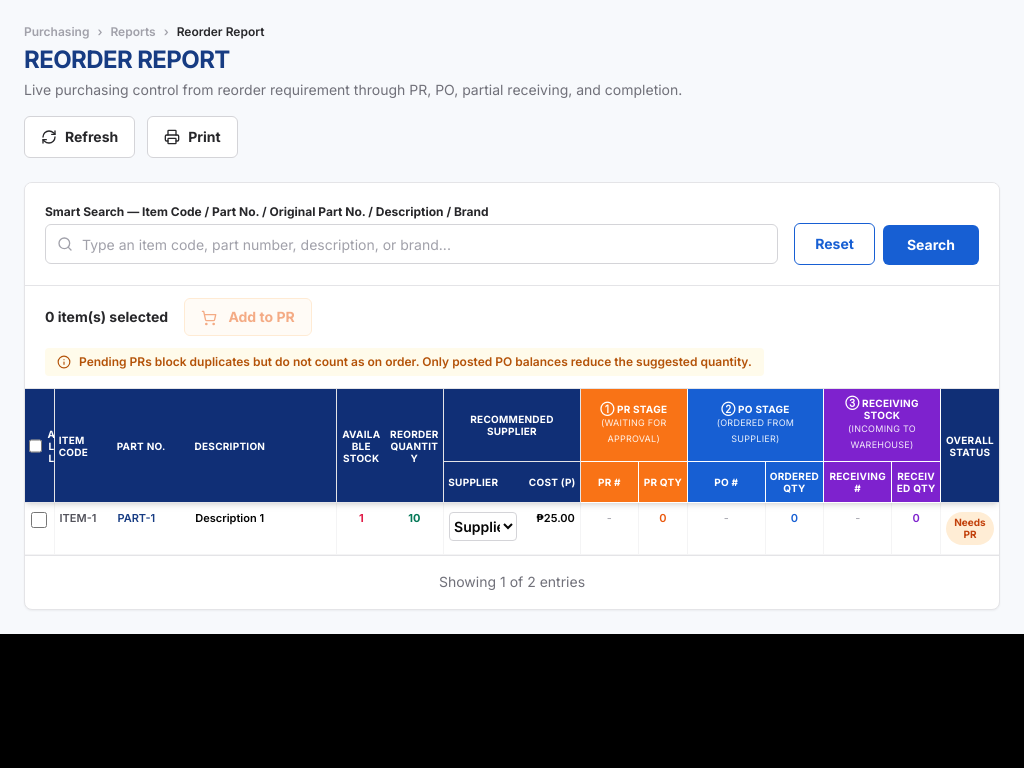
Test: ReorderReport automatic loading › opens directly and smart-searches every product field in realtime
Focus the dropdown named "Reorder report smart search" at (412, 244), box [45,224,778,264]
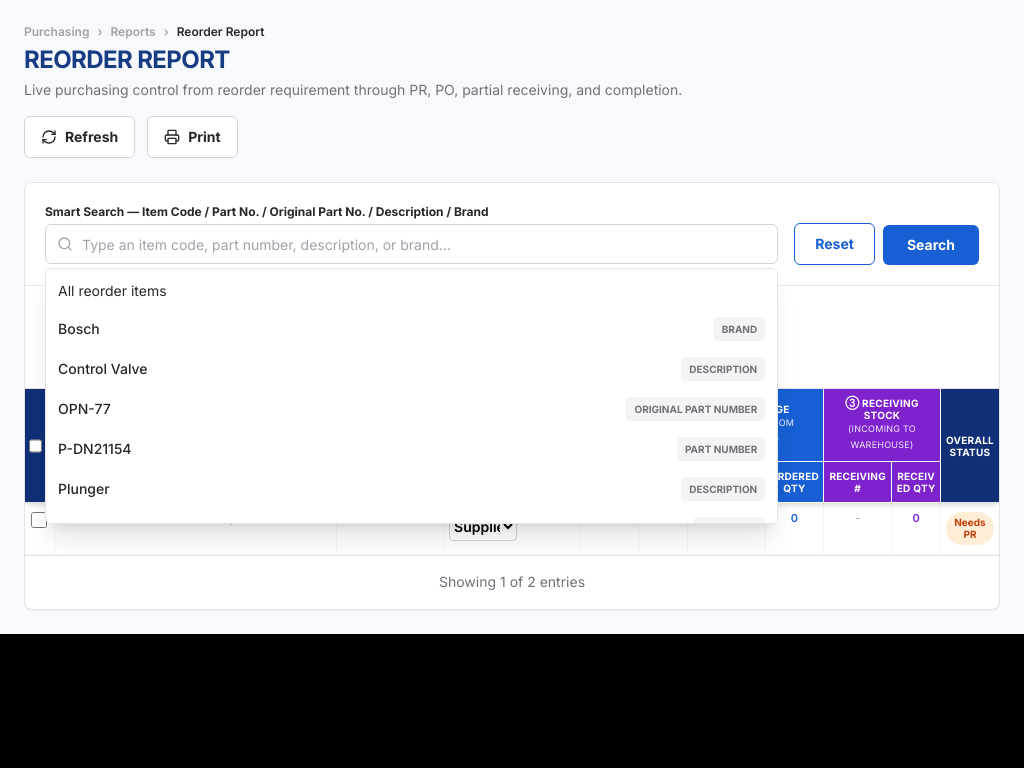
Expected: the option "P-DN21154 Part Number" is shown, [46,429,777,469]
Expected: the option "OPN-77 Original Part Number" is shown, [46,389,777,429]
Expected: the option "Bosch Brand" is shown, [46,309,777,349]
Type "qk6" into the dropdown named "Reorder report smart search".
click(412, 244); type("qk6")  # box [45,224,778,264]
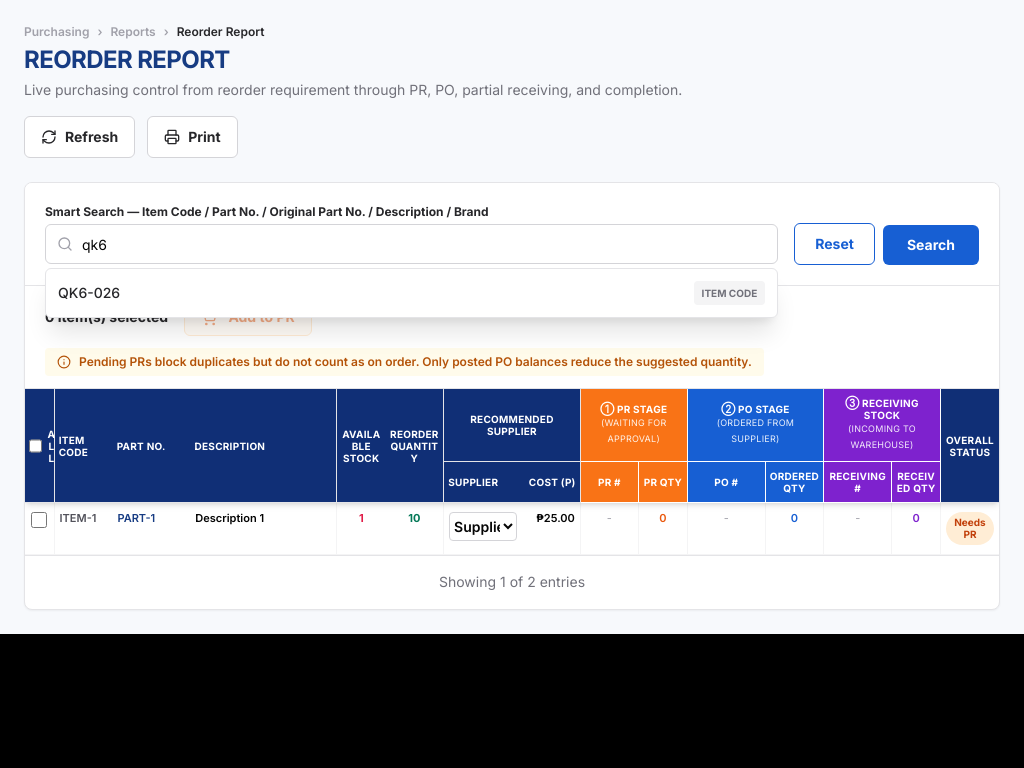
Expected: the option "QK6-026 Item Code" is shown, [46,273,777,313]
Expected: the option "Bosch Brand" is gone
